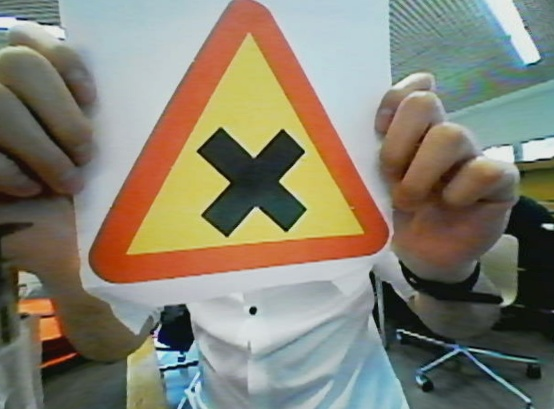junction: (58, 2, 412, 323)
